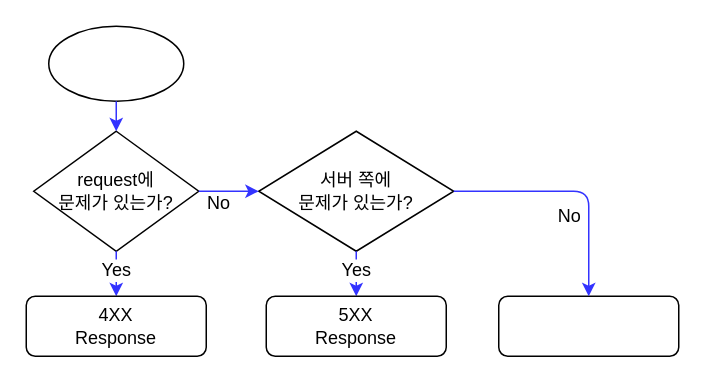
Some shapes in this 705 by 383 pixel diagram are drawn without their labels. The shapes that lost their labels are listed below. From the top down, each one's centre as x and y in pixels, then its label:
At point (115, 63): "어떤 response class 인가?".
At point (588, 325): "2XX/3XX Response".
